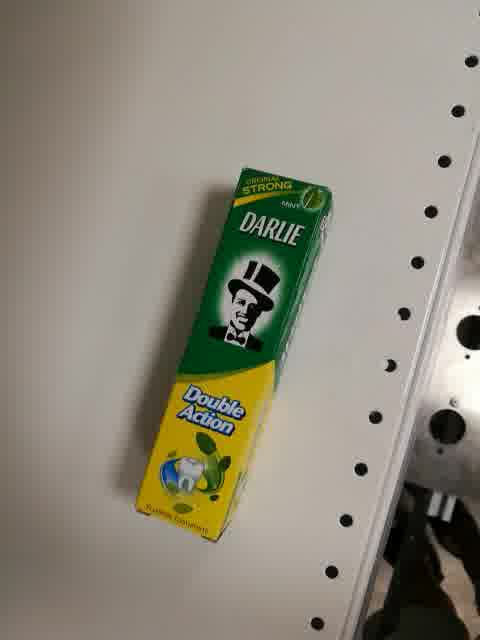toothpaste: (131, 165, 338, 546)
